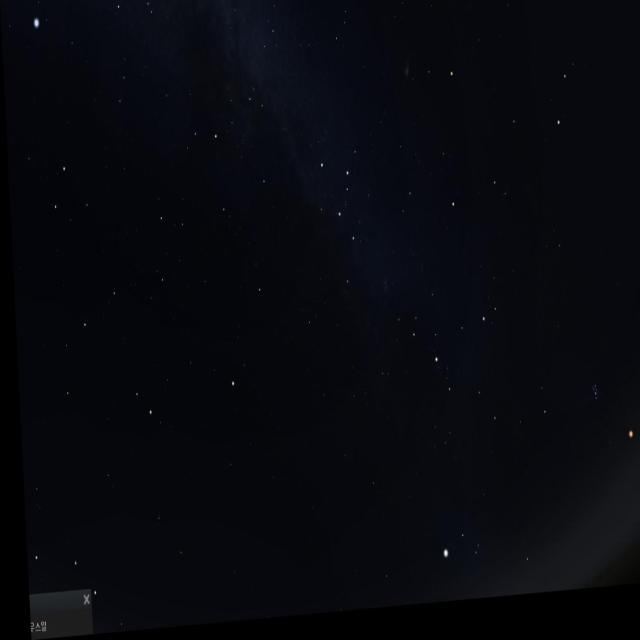cassiopeia: (308, 148, 369, 319)
pleiades: (582, 388, 600, 429)
